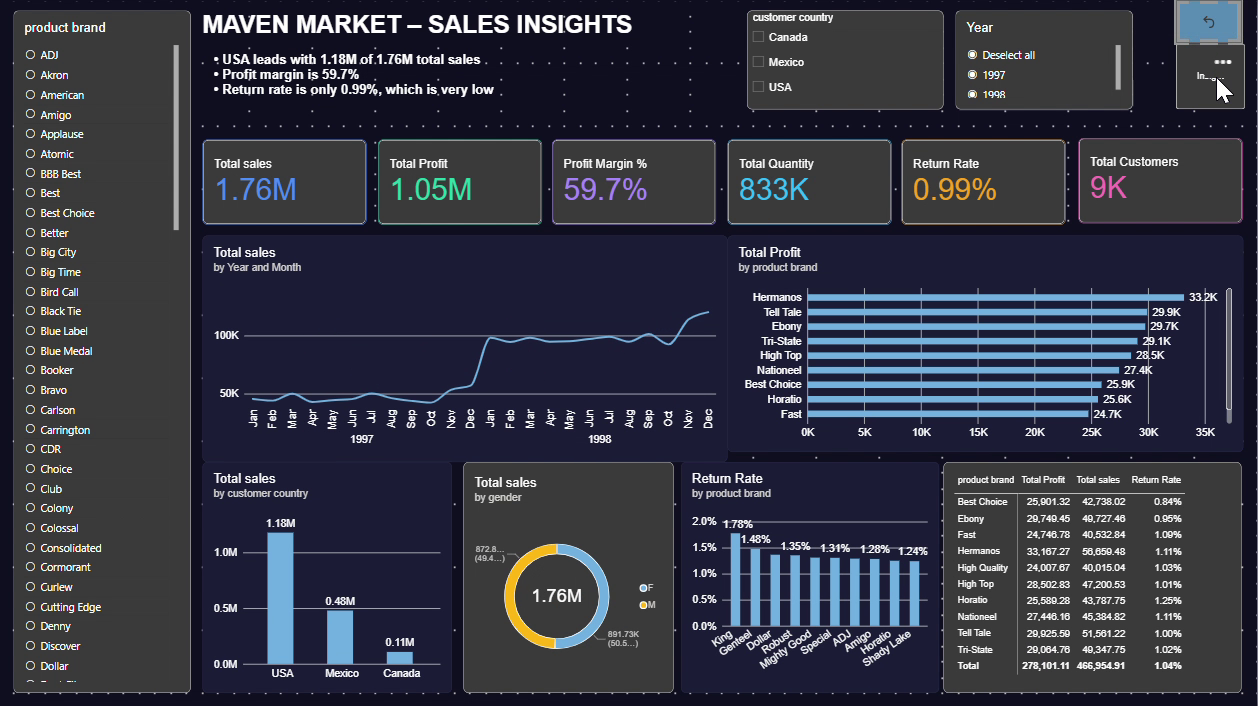

What the dashboard file says about the page in this screenshot:
{"tool":"powerbi","page":{"name":"Dashboard","canvas":[1920,1080],"ordinal":0},"visuals":[{"type":"textbox","box":[313.1,16,729.1,64],"z":0},{"type":"listSlicer","fields":{"Values":["Products.product_brand"]},"box":[25.1,16,269.7,1040],"z":1000},{"type":"cardVisual","fields":{"Data":["Transaction_All.Total_sales"]},"box":[314,212,250.3,130],"z":2000},{"type":"cardVisual","fields":{"Data":["Transaction_All.Total Profit"]},"box":[580.3,212,250.3,130],"z":3000},{"type":"cardVisual","fields":{"Data":["Transaction_All.Total Quantity"]},"box":[1113,212,250.3,130],"z":4000},{"type":"cardVisual","fields":{"Data":["Transaction_All.Return Rate"]},"box":[1379.3,212,250.3,130],"z":5000},{"type":"cardVisual","fields":{"Data":["Transaction_All.Profit Margin %"]},"box":[846.7,212,250.3,130],"z":6000},{"type":"cardVisual","fields":{"Data":["Transaction_All.Total Customers"]},"box":[1648,210.3,250.3,130],"z":7000},{"type":"donutChart","fields":{"Category":["Customers.gender"],"Y":["Transaction_All.Total_sales"]},"box":[710,704,320,352],"z":8000},{"type":"clusteredBarChart","fields":{"Category":["Products.product_brand"],"Y":["Transaction_All.Total Profit"]},"box":[1113.1,358.9,786,330],"z":9000},{"type":"lineChart","fields":{"Category":["Calendar.Year","Calendar.Month"],"Y":["Transaction_All.Total_sales"]},"box":[313.1,358.9,800,345.1],"z":10000},{"type":"clusteredColumnChart","fields":{"Category":["Customers.customer_country"],"Y":["Transaction_All.Total_sales"]},"box":[314,704,380,352],"z":11000},{"type":"clusteredColumnChart","fields":{"Category":["Products.product_brand"],"Y":["Transaction_All.Return Rate"]},"box":[1042.3,704,393.1,352],"z":12000},{"type":"pivotTable","fields":{"Rows":["Products.product_brand"],"Values":["Transaction_All.Total Profit","Transaction_All.Total_sales","Transaction_All.Return Rate"]},"box":[1442,704,454,352],"z":13000},{"type":"listSlicer","fields":{"Values":["Calendar.Year"]},"box":[1460.9,16.7,269.7,150.9],"z":14000},{"type":"textbox","box":[313.1,80,658.3,116.6],"z":15000},{"type":"slicer","fields":{"Values":["Customers.customer country"]},"box":[1142.9,16,299.4,150.9],"z":16000},{"type":"pageNavigator","box":[1796.6,66.3,105.1,100.6],"z":16002},{"type":"actionButton","box":[1796.6,0,100.6,66.3],"z":16003}]}

Visuals, with their boxes on the page's 1920x1080 design canvas (x1, y1, x2, y2). These are canvas units, not pixel positions in the 1258x706 screenshot, which may show the page scaled, cropped or inside an application window:
textbox: box=[313, 16, 1042, 80]
listSlicer - Products.product_brand: box=[25, 16, 295, 1056]
cardVisual - Transaction_All.Total_sales: box=[314, 212, 564, 342]
cardVisual - Transaction_All.Total Profit: box=[580, 212, 831, 342]
cardVisual - Transaction_All.Total Quantity: box=[1113, 212, 1363, 342]
cardVisual - Transaction_All.Return Rate: box=[1379, 212, 1630, 342]
cardVisual - Transaction_All.Profit Margin %: box=[847, 212, 1097, 342]
cardVisual - Transaction_All.Total Customers: box=[1648, 210, 1898, 340]
donutChart - Customers.gender x Transaction_All.Total_sales: box=[710, 704, 1030, 1056]
clusteredBarChart - Products.product_brand x Transaction_All.Total Profit: box=[1113, 359, 1899, 689]
lineChart - Calendar.Year x Calendar.Month: box=[313, 359, 1113, 704]
clusteredColumnChart - Customers.customer_country x Transaction_All.Total_sales: box=[314, 704, 694, 1056]
clusteredColumnChart - Products.product_brand x Transaction_All.Return Rate: box=[1042, 704, 1435, 1056]
pivotTable - Products.product_brand x Transaction_All.Total Profit: box=[1442, 704, 1896, 1056]
listSlicer - Calendar.Year: box=[1461, 17, 1731, 168]
textbox: box=[313, 80, 971, 197]
slicer - Customers.customer country: box=[1143, 16, 1442, 167]
pageNavigator: box=[1797, 66, 1902, 167]
actionButton: box=[1797, 0, 1897, 66]
